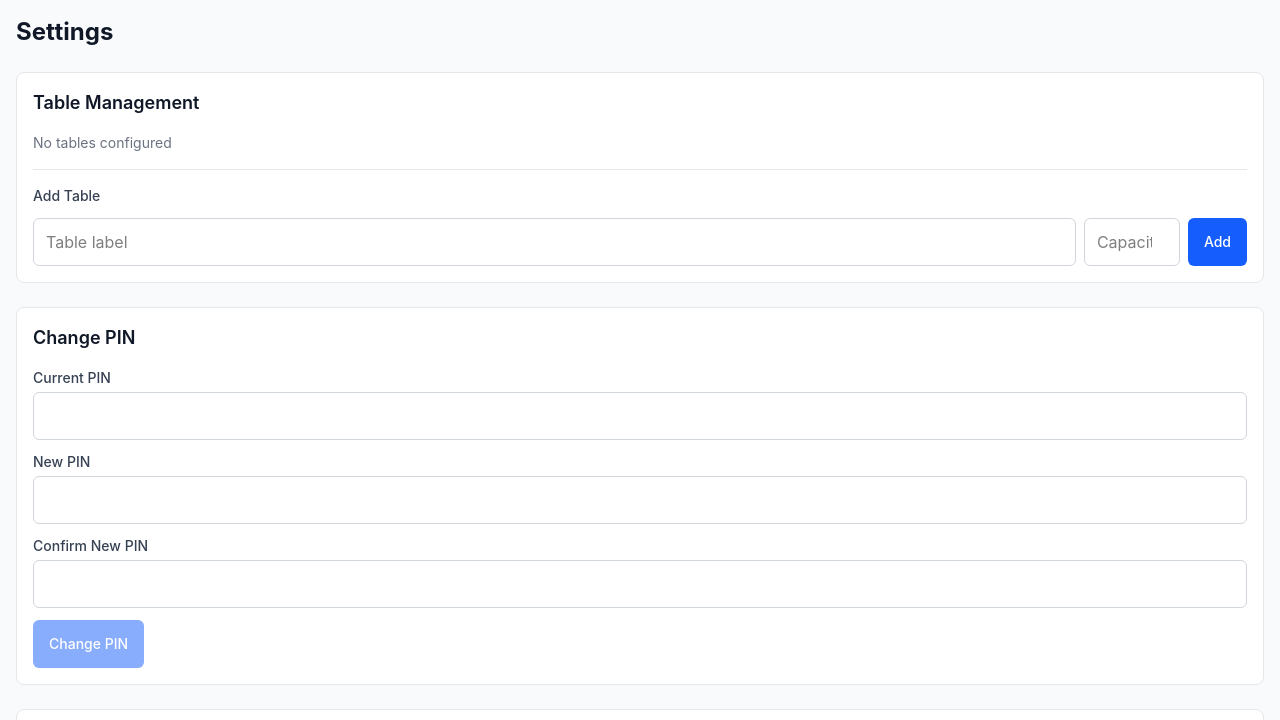
ManagerSettings › Table Management section › shows validation error for empty label
Type "4" into the number field with placeholder "Capacity". click: (1132, 242)
box: [1084,218,1180,266]
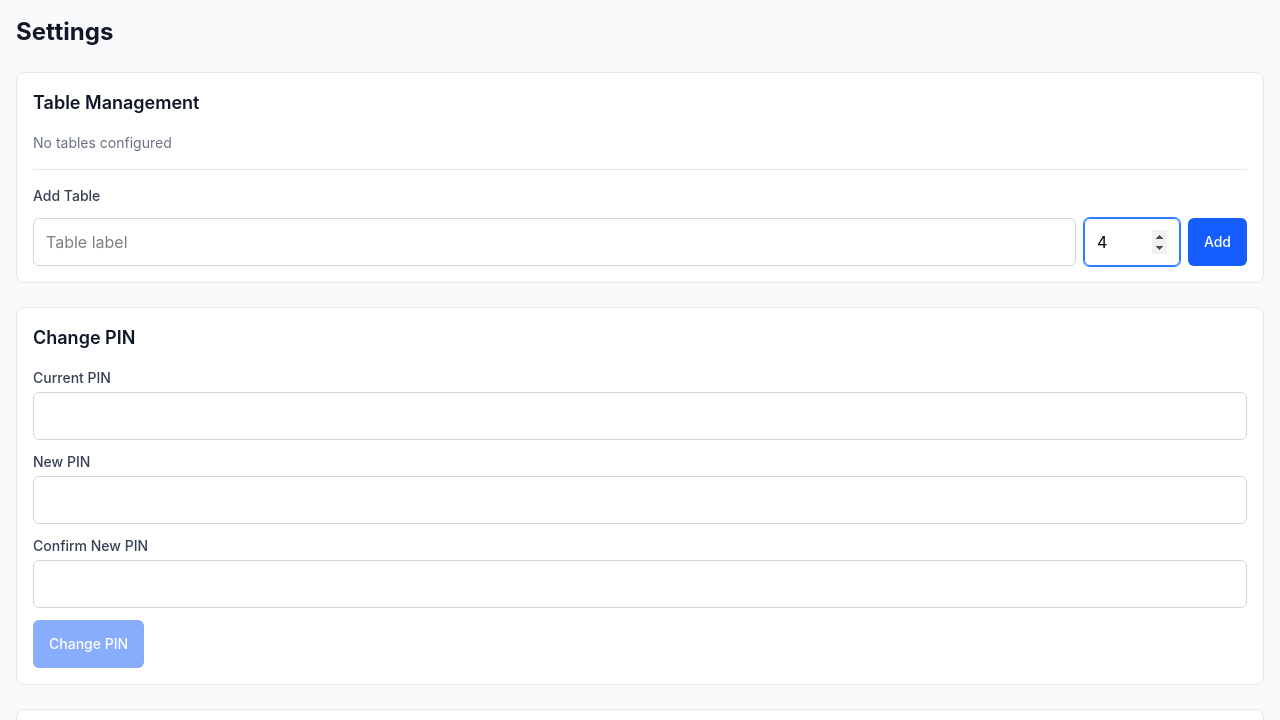
Submit the form "Add Table Add", box [33,169,1247,266]
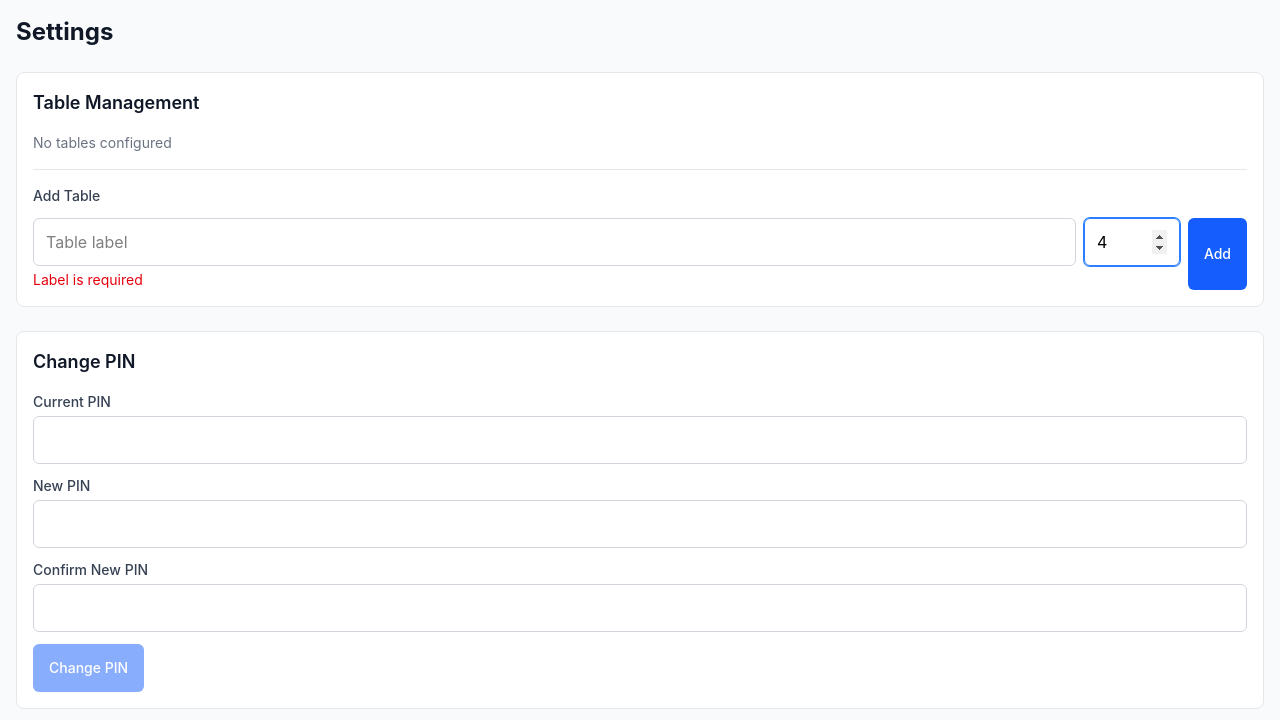
Expected: the text "Label is required" is shown, [33,271,143,288]
